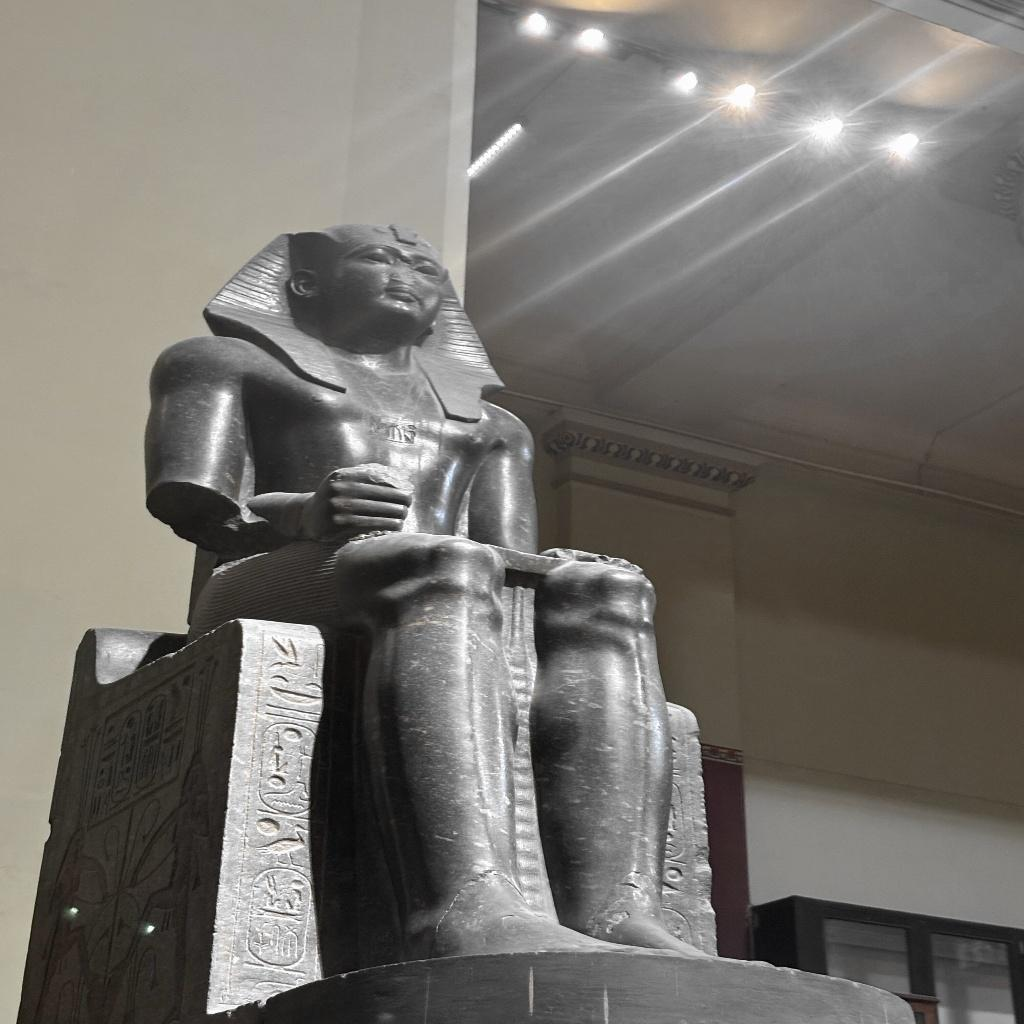Seated Statue of Ramesses II: (136, 218, 724, 964)
